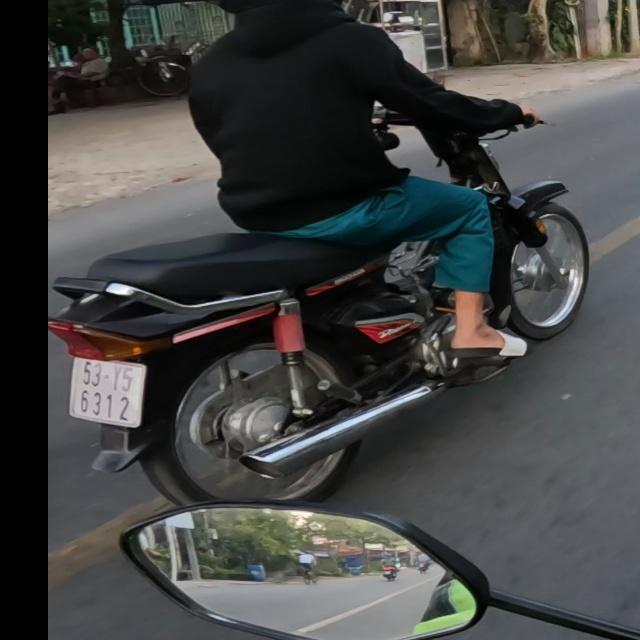license-plate: (64, 354, 151, 431)
